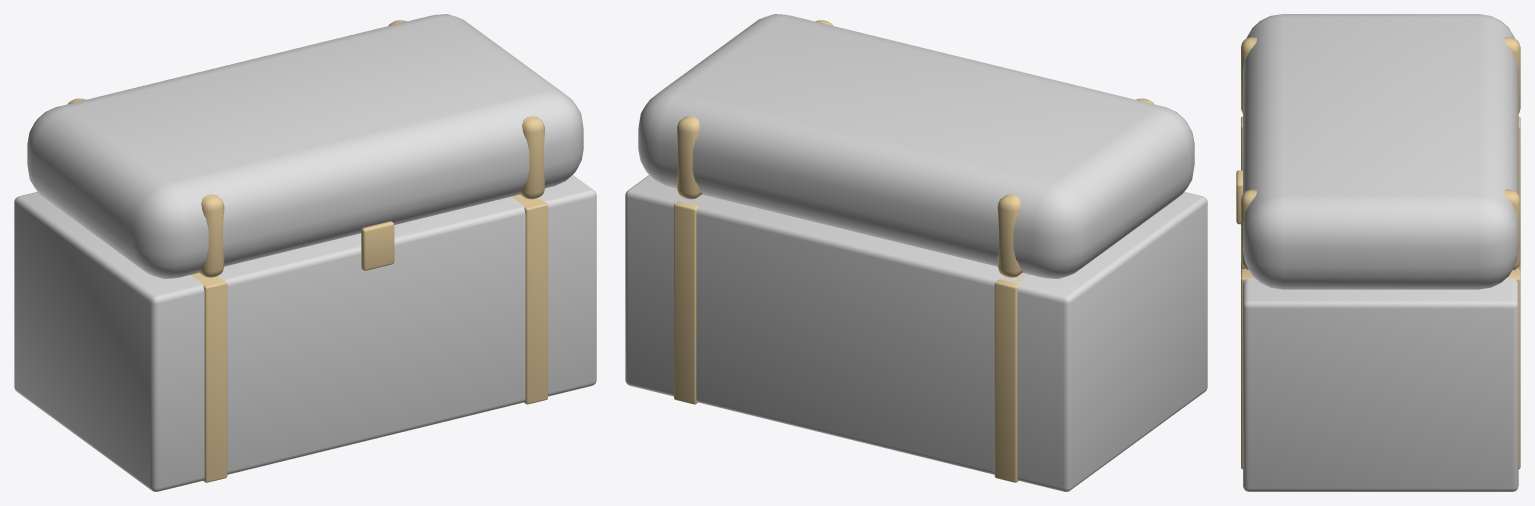
Rendered from treasure_chest.glb.
The picture shows the model from 3 angles, left to right: view 1: azimuth 30°, elevation 25°; view 2: azimuth 150°, elevation 25°; view 3: azimuth 270°, elevation 25°; orthographic projection. The views are drawn at different scales.
Parts seen in each view (by area): view 1: treasure_chest_body, treasure_chest_lid_1, treasure_chest_strap, treasure_chest_strap_1; view 2: treasure_chest_body, treasure_chest_lid_1, treasure_chest_strap, treasure_chest_strap_1; view 3: treasure_chest_lid_1, treasure_chest_body, treasure_chest_strap_1, treasure_chest_strap.
Boxes of the visible parts, x1,y1,x2,y2 form: treasure_chest_body: (14, 175, 596, 491); treasure_chest_lid_1: (27, 14, 583, 278); treasure_chest_strap: (191, 272, 227, 482); treasure_chest_strap_1: (512, 194, 547, 404); treasure_chest_body: (625, 175, 1207, 491); treasure_chest_lid_1: (638, 14, 1194, 278); treasure_chest_strap: (994, 273, 1029, 482); treasure_chest_strap_1: (674, 197, 706, 404); treasure_chest_lid_1: (1236, 14, 1520, 289); treasure_chest_body: (1243, 267, 1518, 491); treasure_chest_strap_1: (1241, 269, 1520, 469); treasure_chest_strap: (1241, 116, 1520, 270).
Size of the model in its own units: 1 by 0.621 by 0.567.
